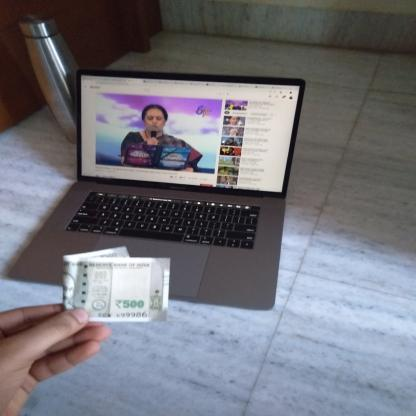New500Front: (65, 258, 171, 322)
